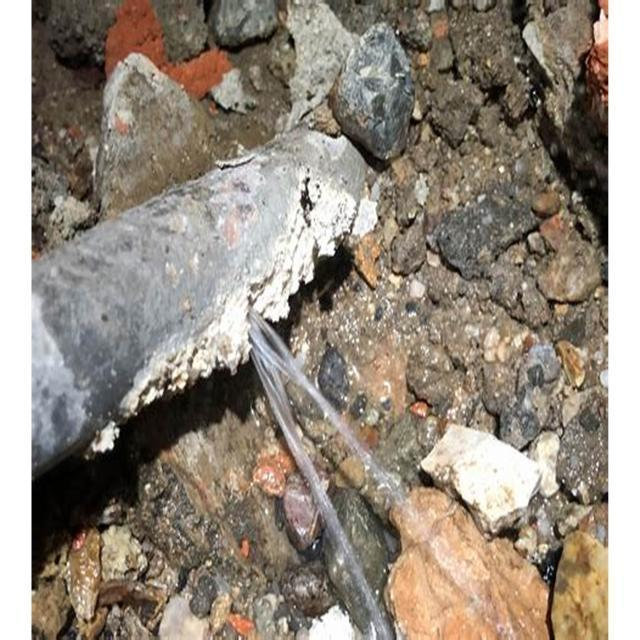pipe burst: (236, 299, 496, 640)
